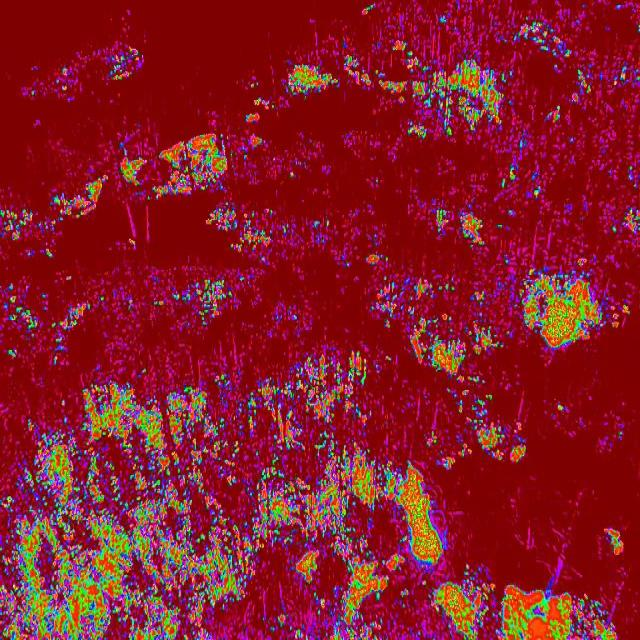fire: (0, 345, 442, 640), (343, 43, 514, 141), (372, 270, 501, 370), (442, 579, 622, 640), (438, 372, 526, 477), (0, 172, 101, 262), (110, 126, 232, 198), (508, 267, 610, 352), (206, 207, 286, 259), (167, 278, 242, 326), (422, 201, 490, 253), (283, 58, 342, 112), (518, 15, 580, 60), (49, 302, 92, 364), (7, 294, 38, 360), (106, 37, 146, 84), (243, 109, 269, 163), (597, 524, 627, 560)
